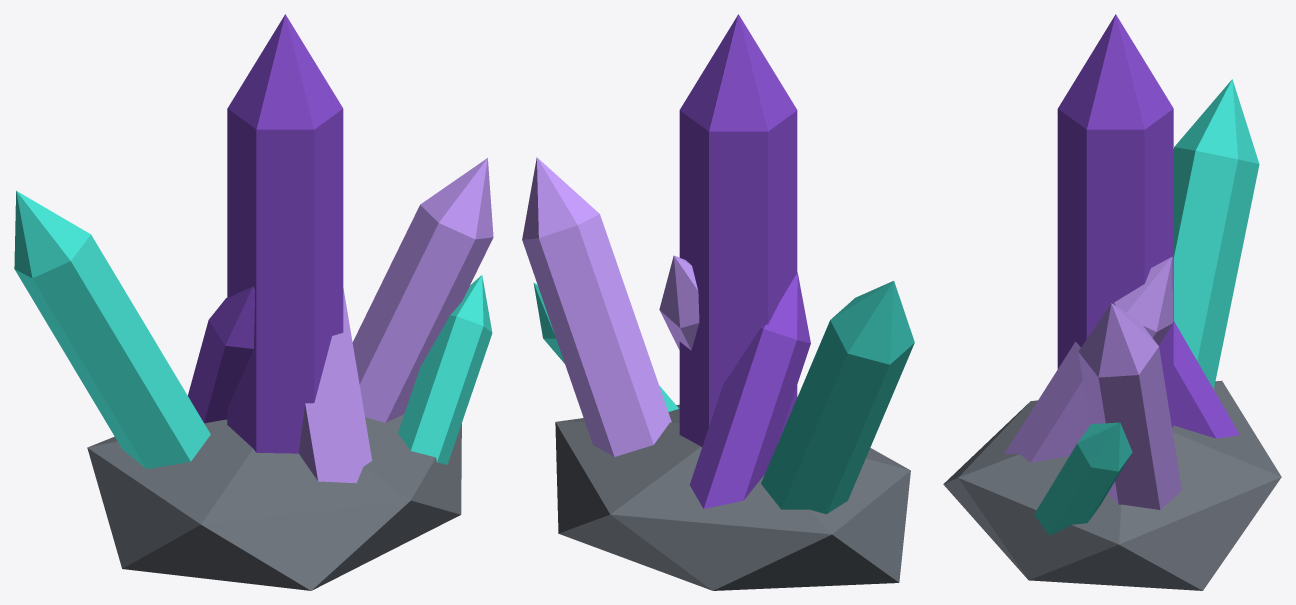
File: Crystals.fbx
3 views of the same model, side by side, from view 1: azimuth 30°, elevation 25°; view 2: azimuth 150°, elevation 25°; view 3: azimuth 270°, elevation 25° (orthographic).
Visible parts, largest first — view 1: Crystals; view 2: Crystals; view 3: Crystals.
Part boxes in pixels (x1,y1,x2,y2): Crystals: (14,14,493,590); Crystals: (522,14,914,590); Crystals: (943,14,1281,590).
Size of the model in its own units: 4.95 by 6.2 by 3.5.
Materials: 1 (1 with a texture image).
